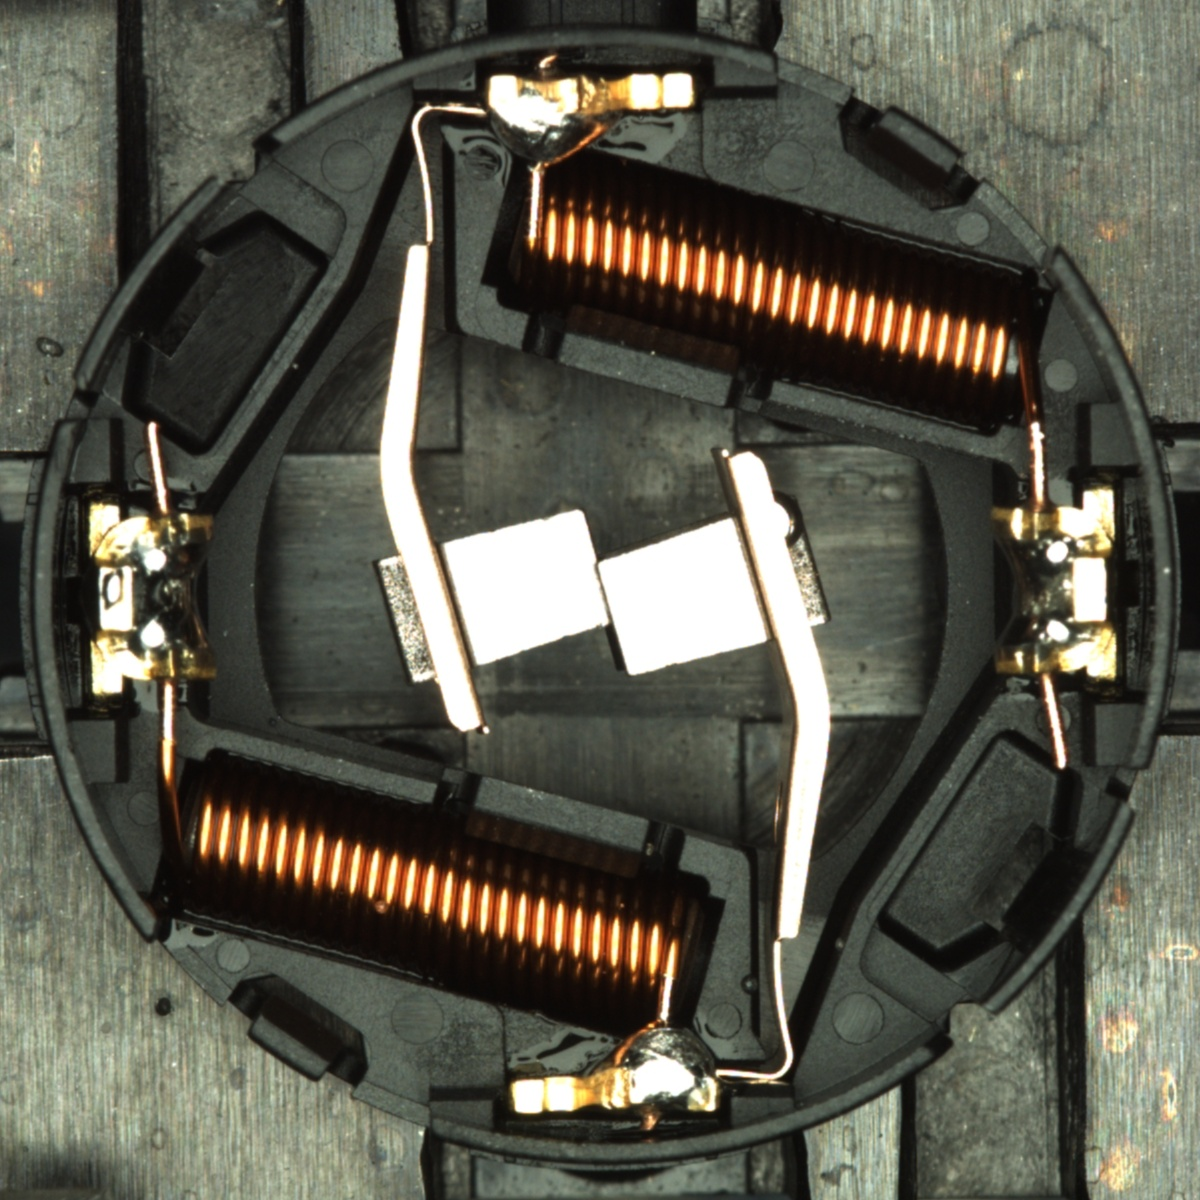1: (258, 55, 487, 279), (716, 953, 945, 1177)
2: (716, 55, 945, 279), (258, 953, 487, 1177)
3: (29, 279, 258, 503), (945, 729, 1175, 953)
4: (258, 279, 487, 503), (716, 729, 945, 953)
5: (487, 167, 716, 391), (487, 841, 716, 1065)
6: (716, 279, 945, 503), (258, 729, 487, 953)
7: (945, 279, 1175, 503), (29, 729, 258, 953)
chau_dien: (82, 497, 222, 698), (984, 487, 1124, 686)
hat_chi: (768, 490, 805, 547)
tay_choi: (482, 71, 700, 170), (508, 1019, 722, 1118)
thanh_de: (955, 786, 1143, 1031), (59, 164, 245, 405)
